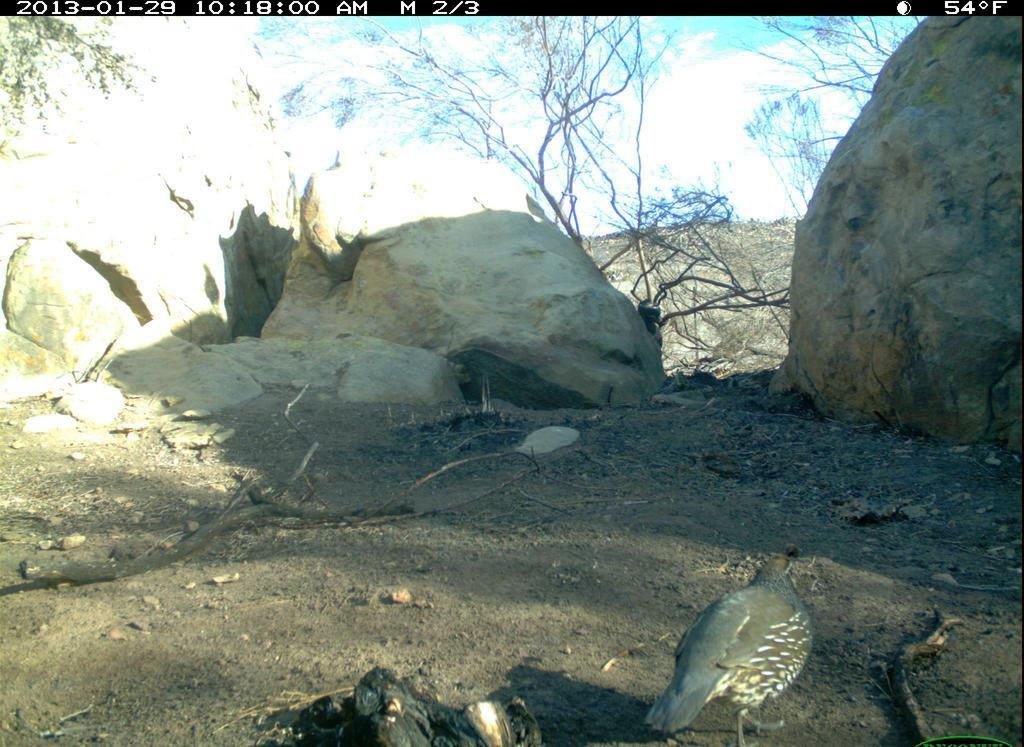bird: (642, 547, 818, 747)
